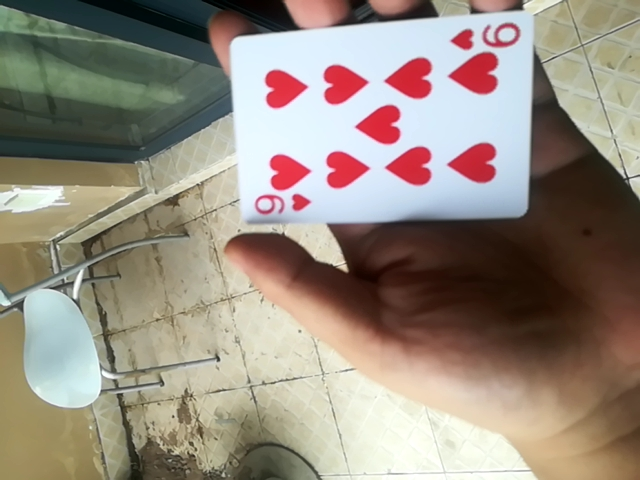hx 9: (226, 8, 534, 225)
